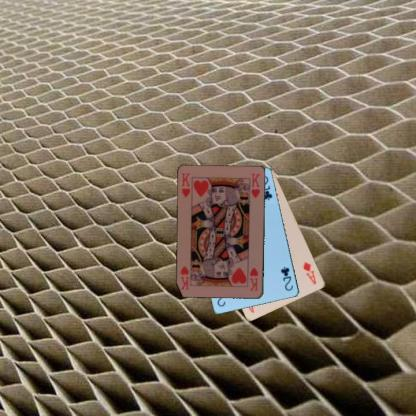2c: (279, 264, 294, 292)
Ad: (300, 260, 318, 286)
Kh: (179, 170, 191, 199), (248, 265, 260, 292)
